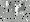person: (22, 4, 29, 15), (8, 3, 14, 13), (17, 6, 22, 17)
